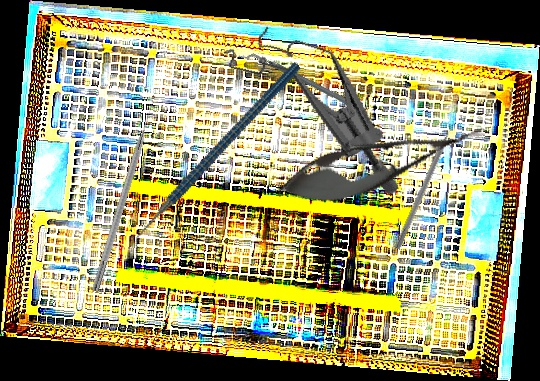Chopper: (87, 61, 344, 262), (243, 19, 364, 146)
Hook Surgical: (90, 99, 159, 293)
Micro Scissor: (269, 105, 494, 220)
Pusher: (394, 115, 460, 251)
Speculum: (195, 13, 435, 199)
